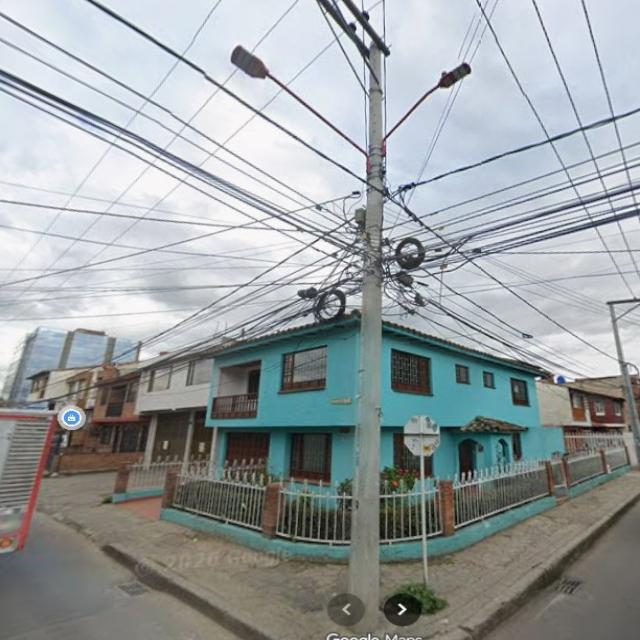Fachada: (170, 316, 359, 545), (381, 324, 563, 543), (65, 356, 212, 493), (536, 382, 625, 452), (87, 363, 147, 453)
Poste: (231, 0, 389, 635), (391, 63, 470, 132), (609, 298, 639, 464)
